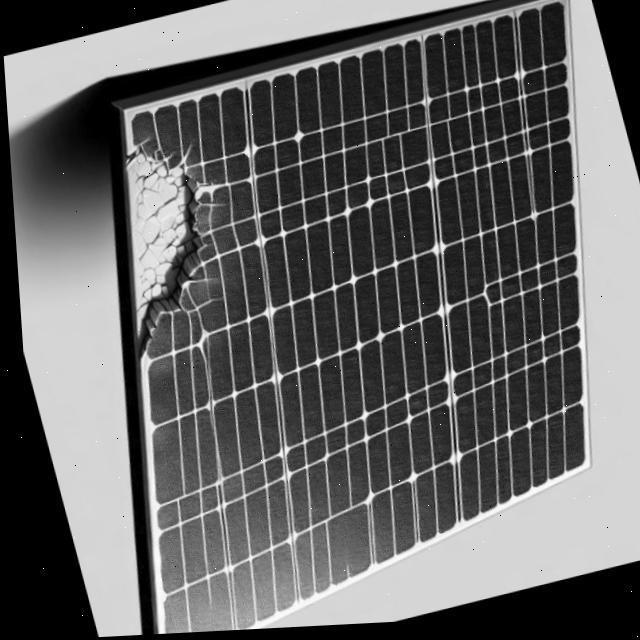Anomaly Solar Panel: (128, 1, 582, 635)
Structural Damage: (126, 148, 213, 367)
